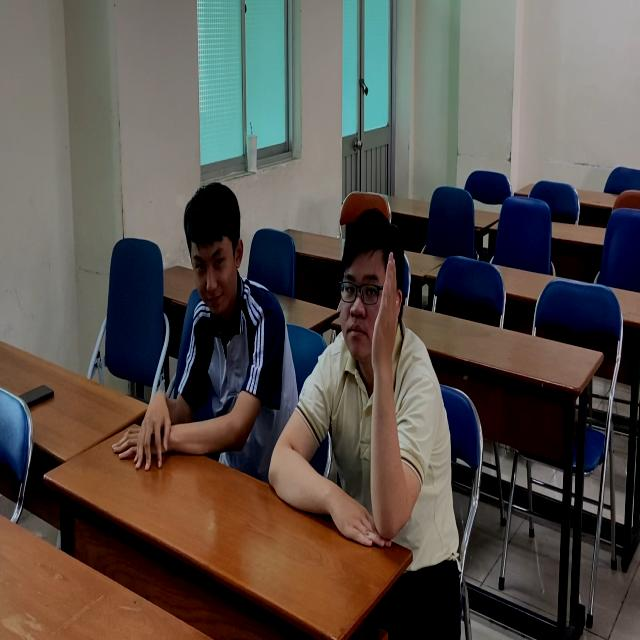raise_hand: (320, 201, 450, 563)
